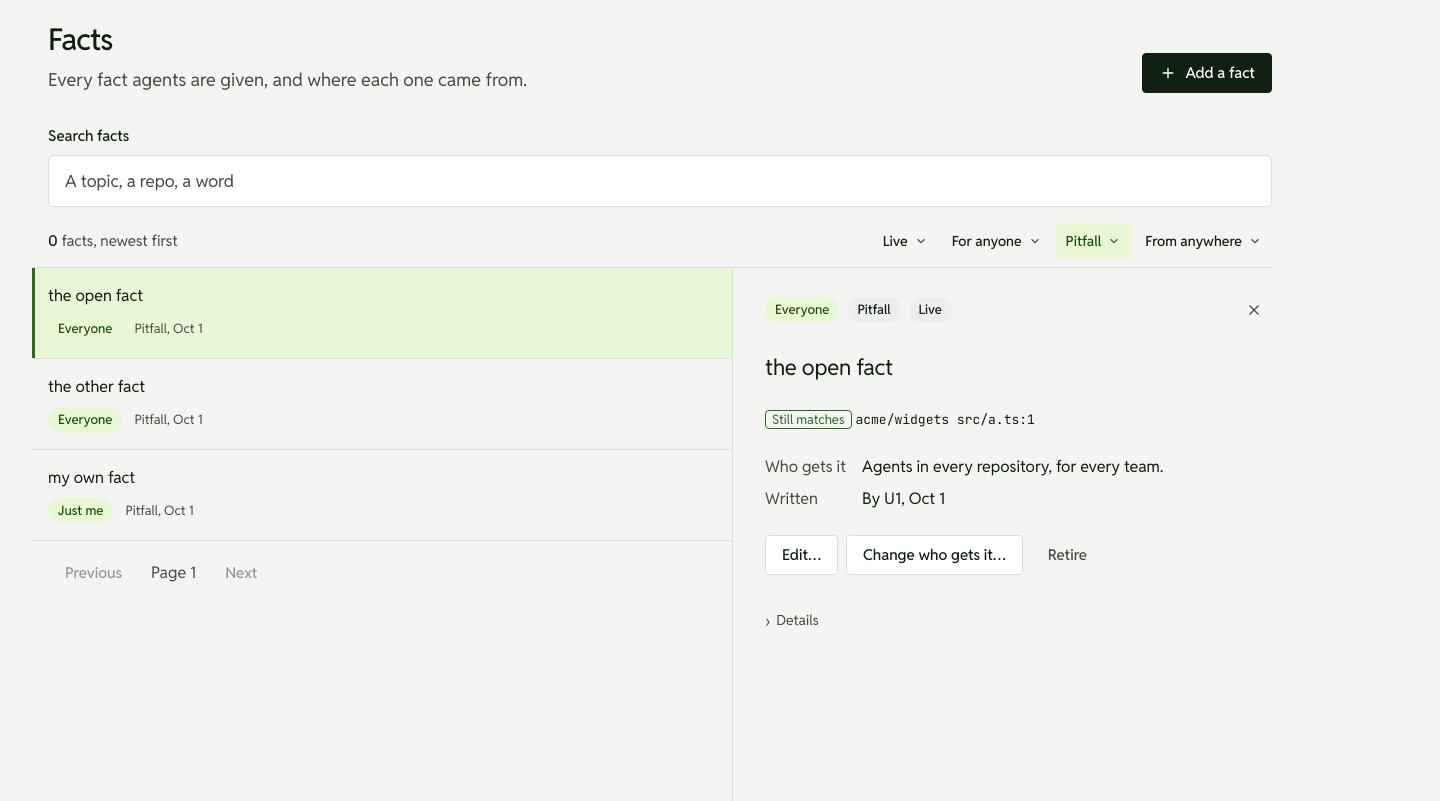
Scenario: the open fact's actions › a move that merged into another fact opens that fact
Expected: the 2nd text "the open fact" is shown, [765,353,893,381]
Click the button "Change who gets it…" at (934, 555), box [846,535,1023,575]
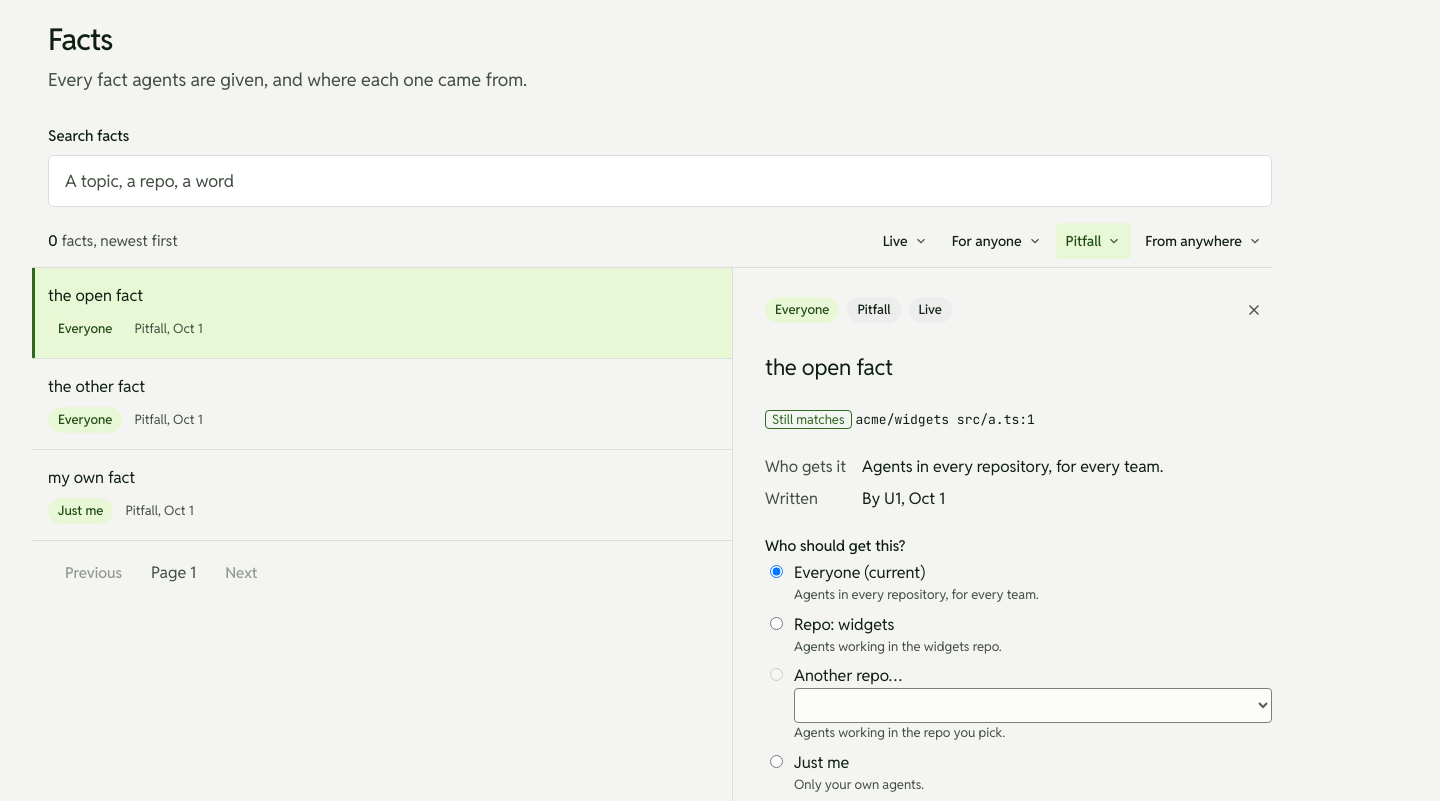
Click the radio button labelled "Repo: widgets" at (776, 623), box [770,617,783,630]
(page scrolled)
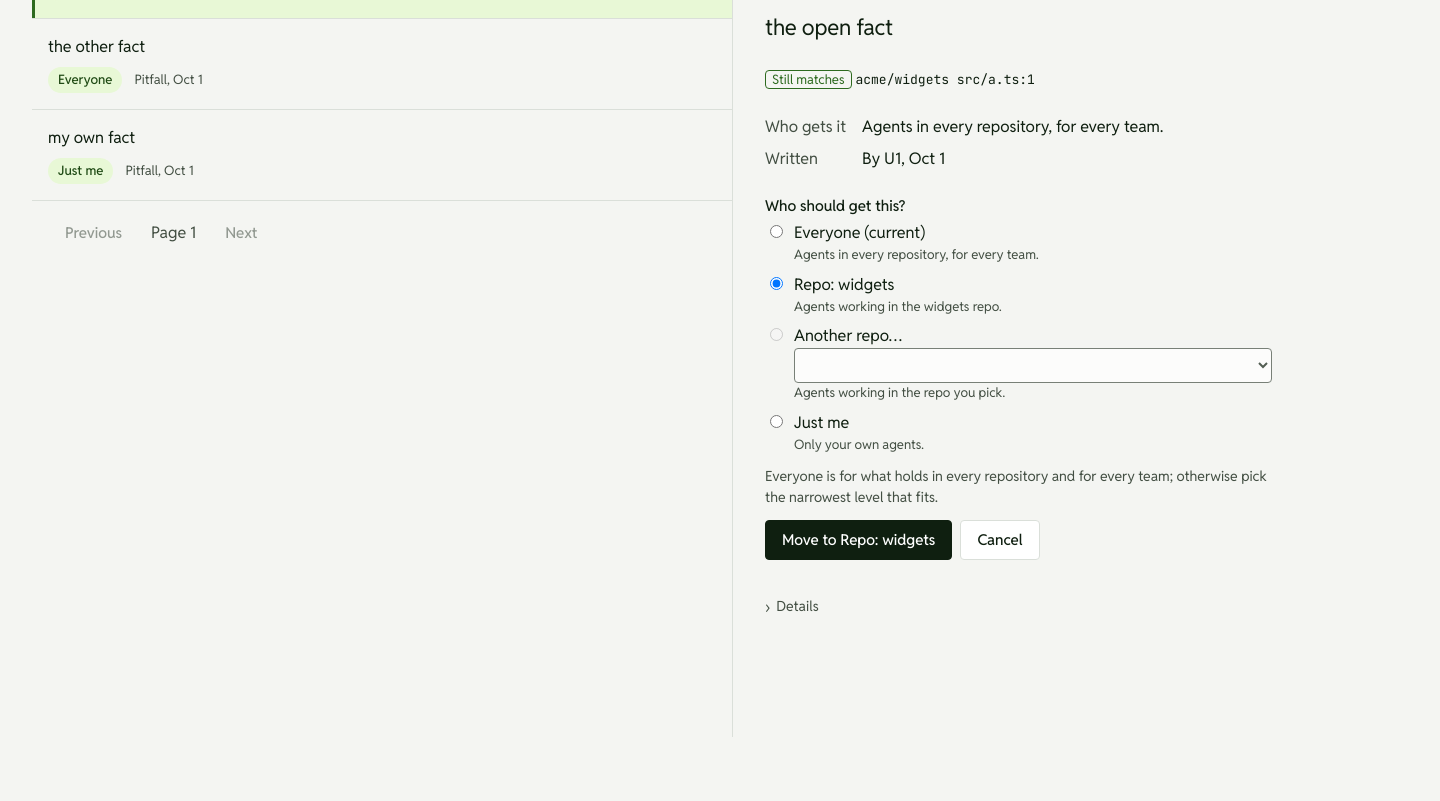
Click the button "Move to Repo: widgets" at (859, 540), box [765,520,952,560]
(page scrolled)
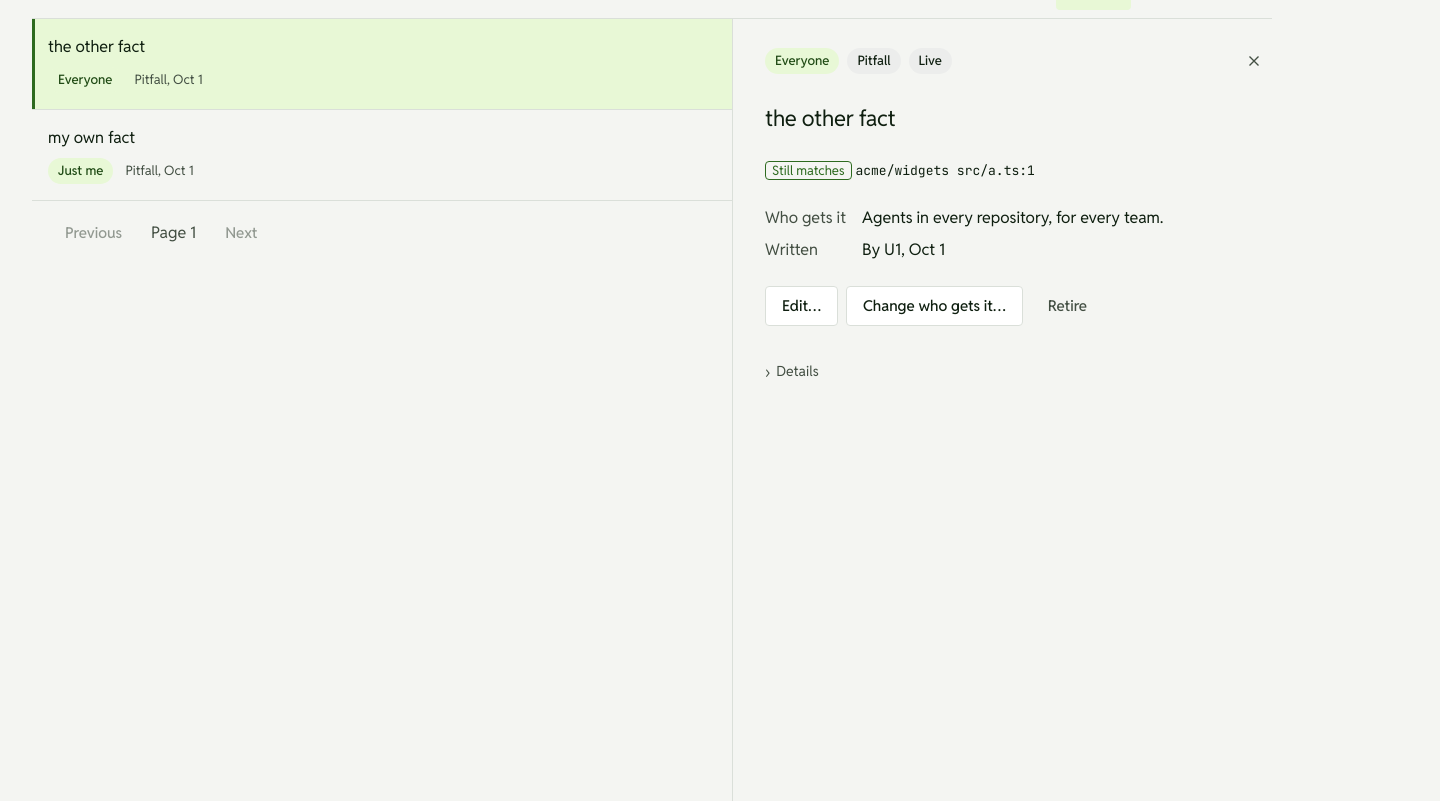
Expected: the 2nd text "the other fact" is shown, [765,104,895,132]
